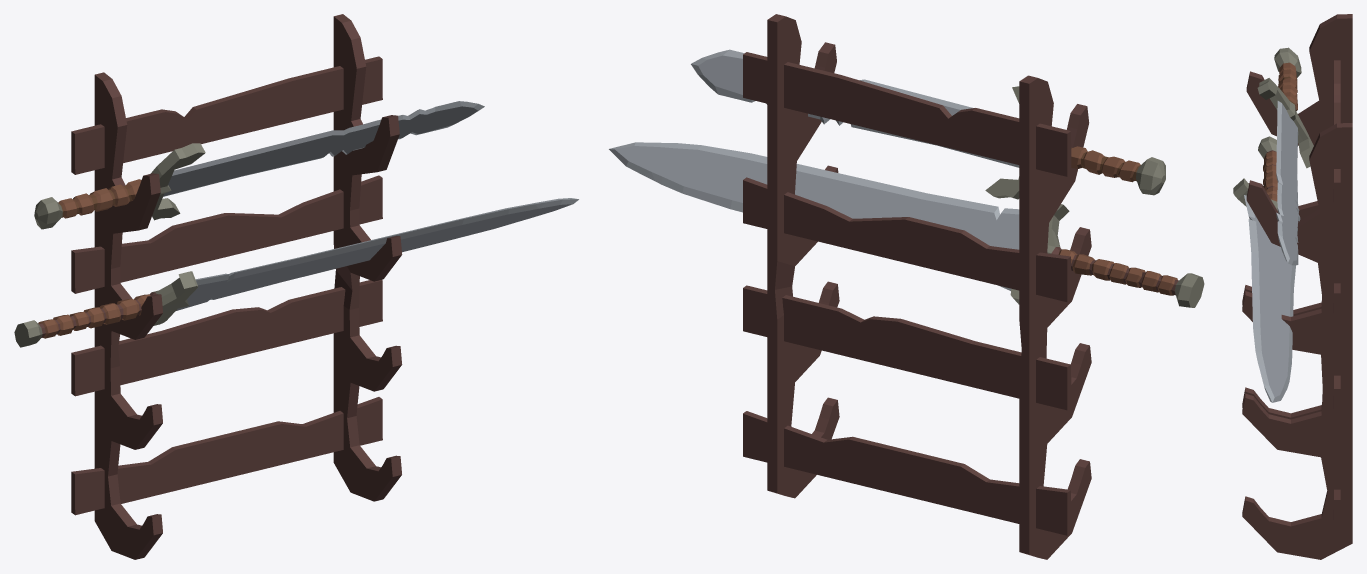
Rendered from quaternius-modular-dungeon-1-sword-wall-mount.glb.
3 views of the same model, side by side, from view 1: azimuth 30°, elevation 25°; view 2: azimuth 150°, elevation 25°; view 3: azimuth 270°, elevation 25° (orthographic). The views are drawn at different scales.
Visible parts, largest first — view 1: Sword_WallMount; view 2: Sword_WallMount; view 3: Sword_WallMount.
Boxes of the visible parts, x1=… form: Sword_WallMount: x1=14, y1=14, x2=578, y2=559; Sword_WallMount: x1=609, y1=14, x2=1204, y2=559; Sword_WallMount: x1=1233, y1=14, x2=1352, y2=559.
Size of the model in its own units: 1.07 by 0.8471 by 0.2117.
1 material, 1 textured.
